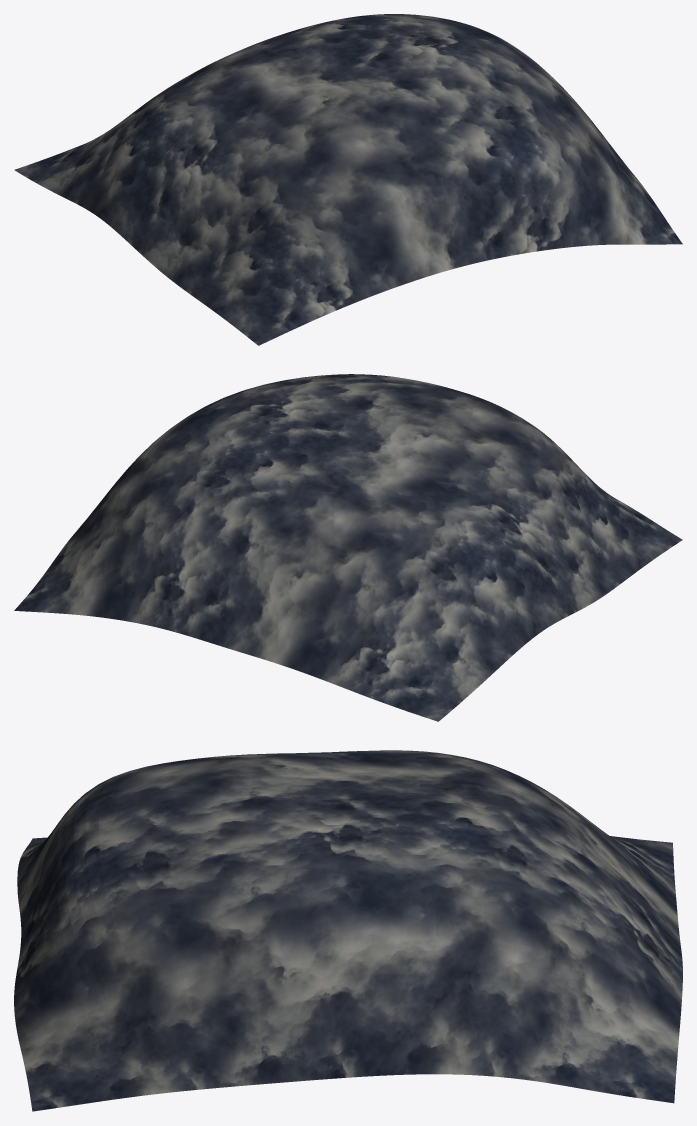
Rendered from skybox.glb.
3 views of the same model, one above another, from view 1: azimuth 30°, elevation 25°; view 2: azimuth 150°, elevation 25°; view 3: azimuth 270°, elevation 25° (orthographic). The views are drawn at different scales.
Visible parts, largest first — view 1: Grid; view 2: Grid; view 3: Grid.
Boxes of the visible parts, x1,y1,x2,y2 form: Grid: [14, 14, 682, 345]; Grid: [14, 374, 682, 721]; Grid: [14, 750, 682, 1111].
Size of the model in its own units: 211 by 66.99 by 209.
Materials: 1 (1 with a texture image).
